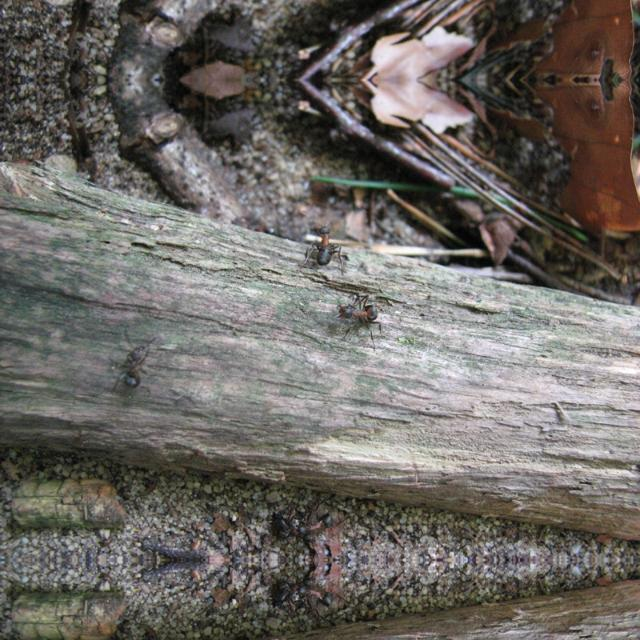Formica: (226, 408, 264, 468), (162, 192, 218, 230), (294, 384, 344, 422)
